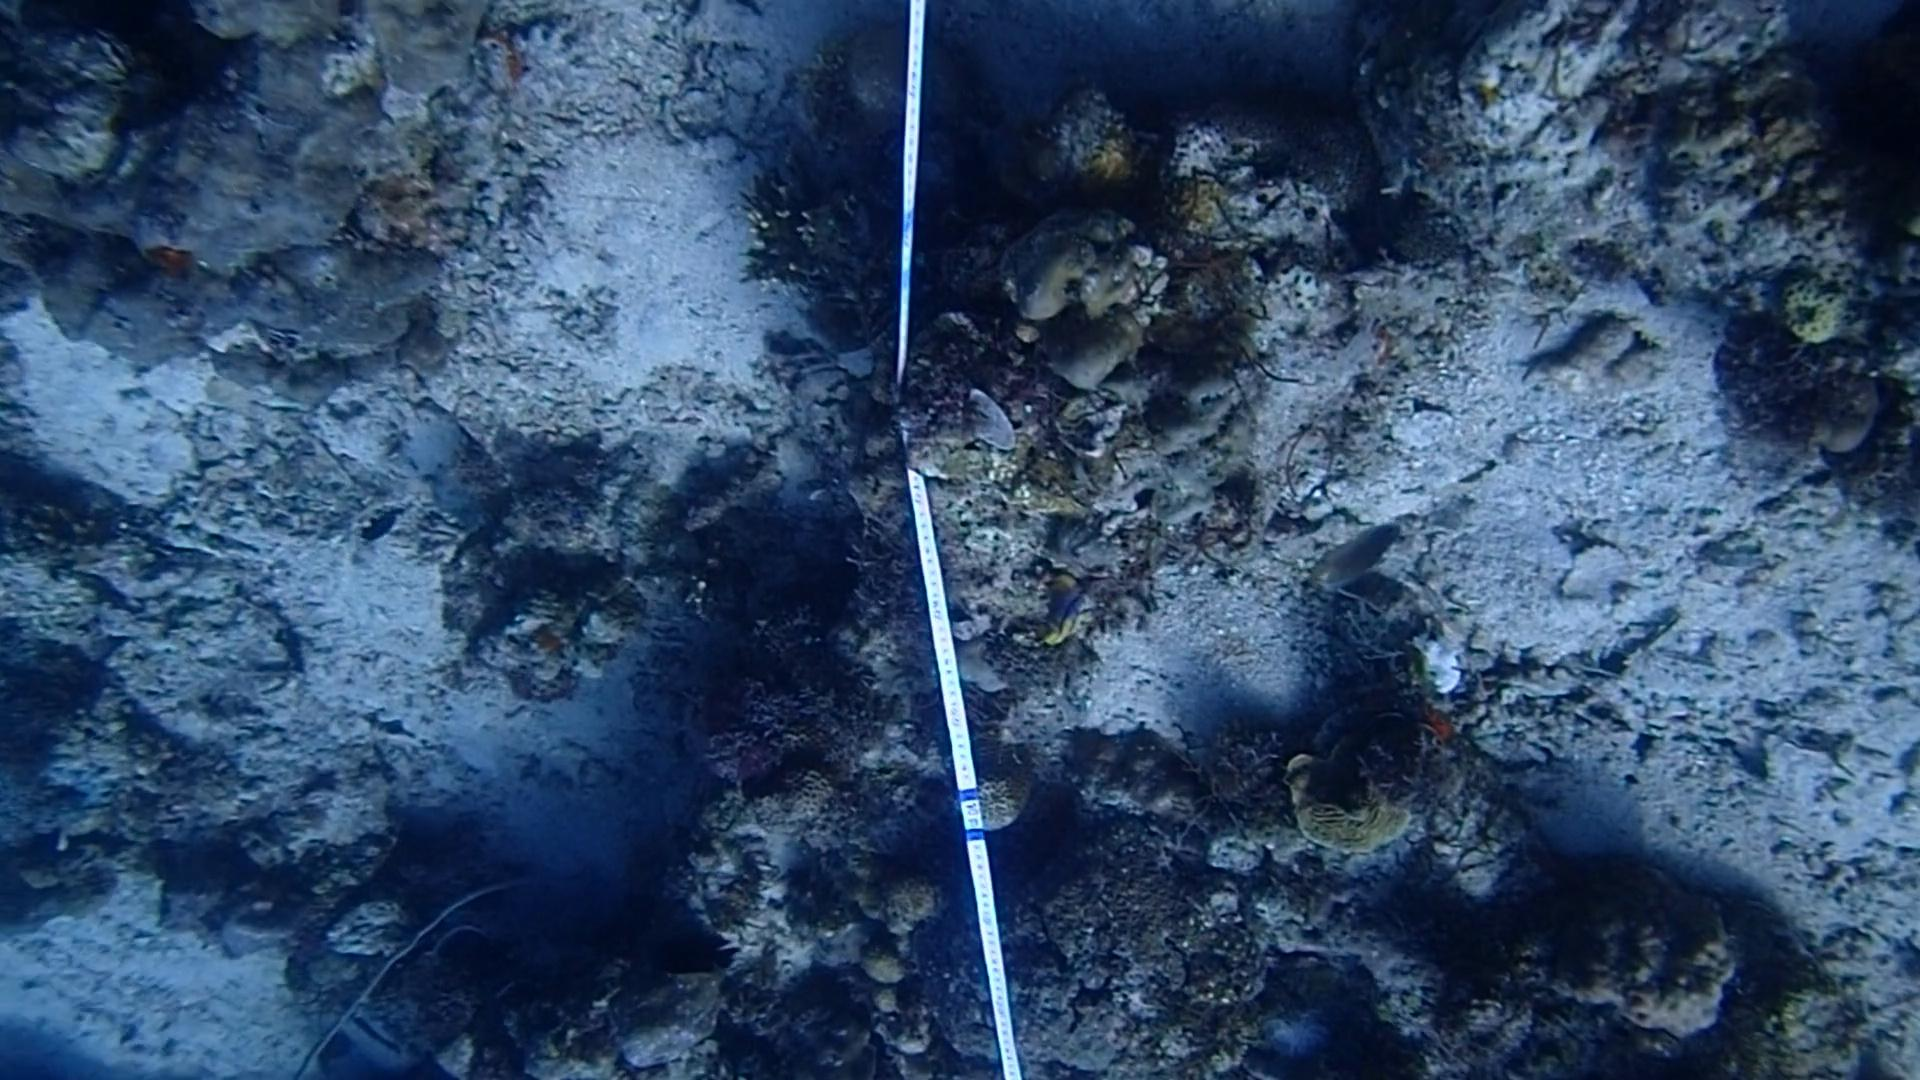Dark Fish: (644, 918, 752, 985), (355, 501, 405, 549)
Light Fish: (1311, 521, 1402, 595)
